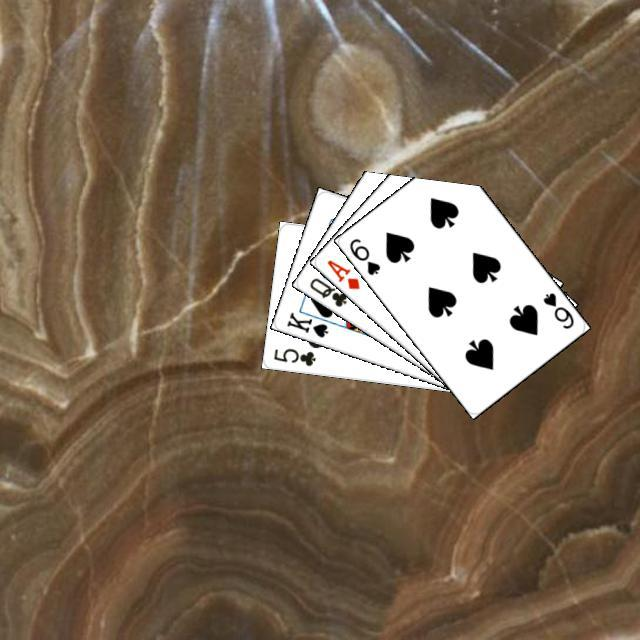5c: (269, 343, 317, 367)
6s: (344, 233, 382, 277), (538, 287, 576, 331)
Ad: (322, 254, 361, 291)
Ks: (282, 307, 330, 339)
Qc: (304, 269, 357, 309)
